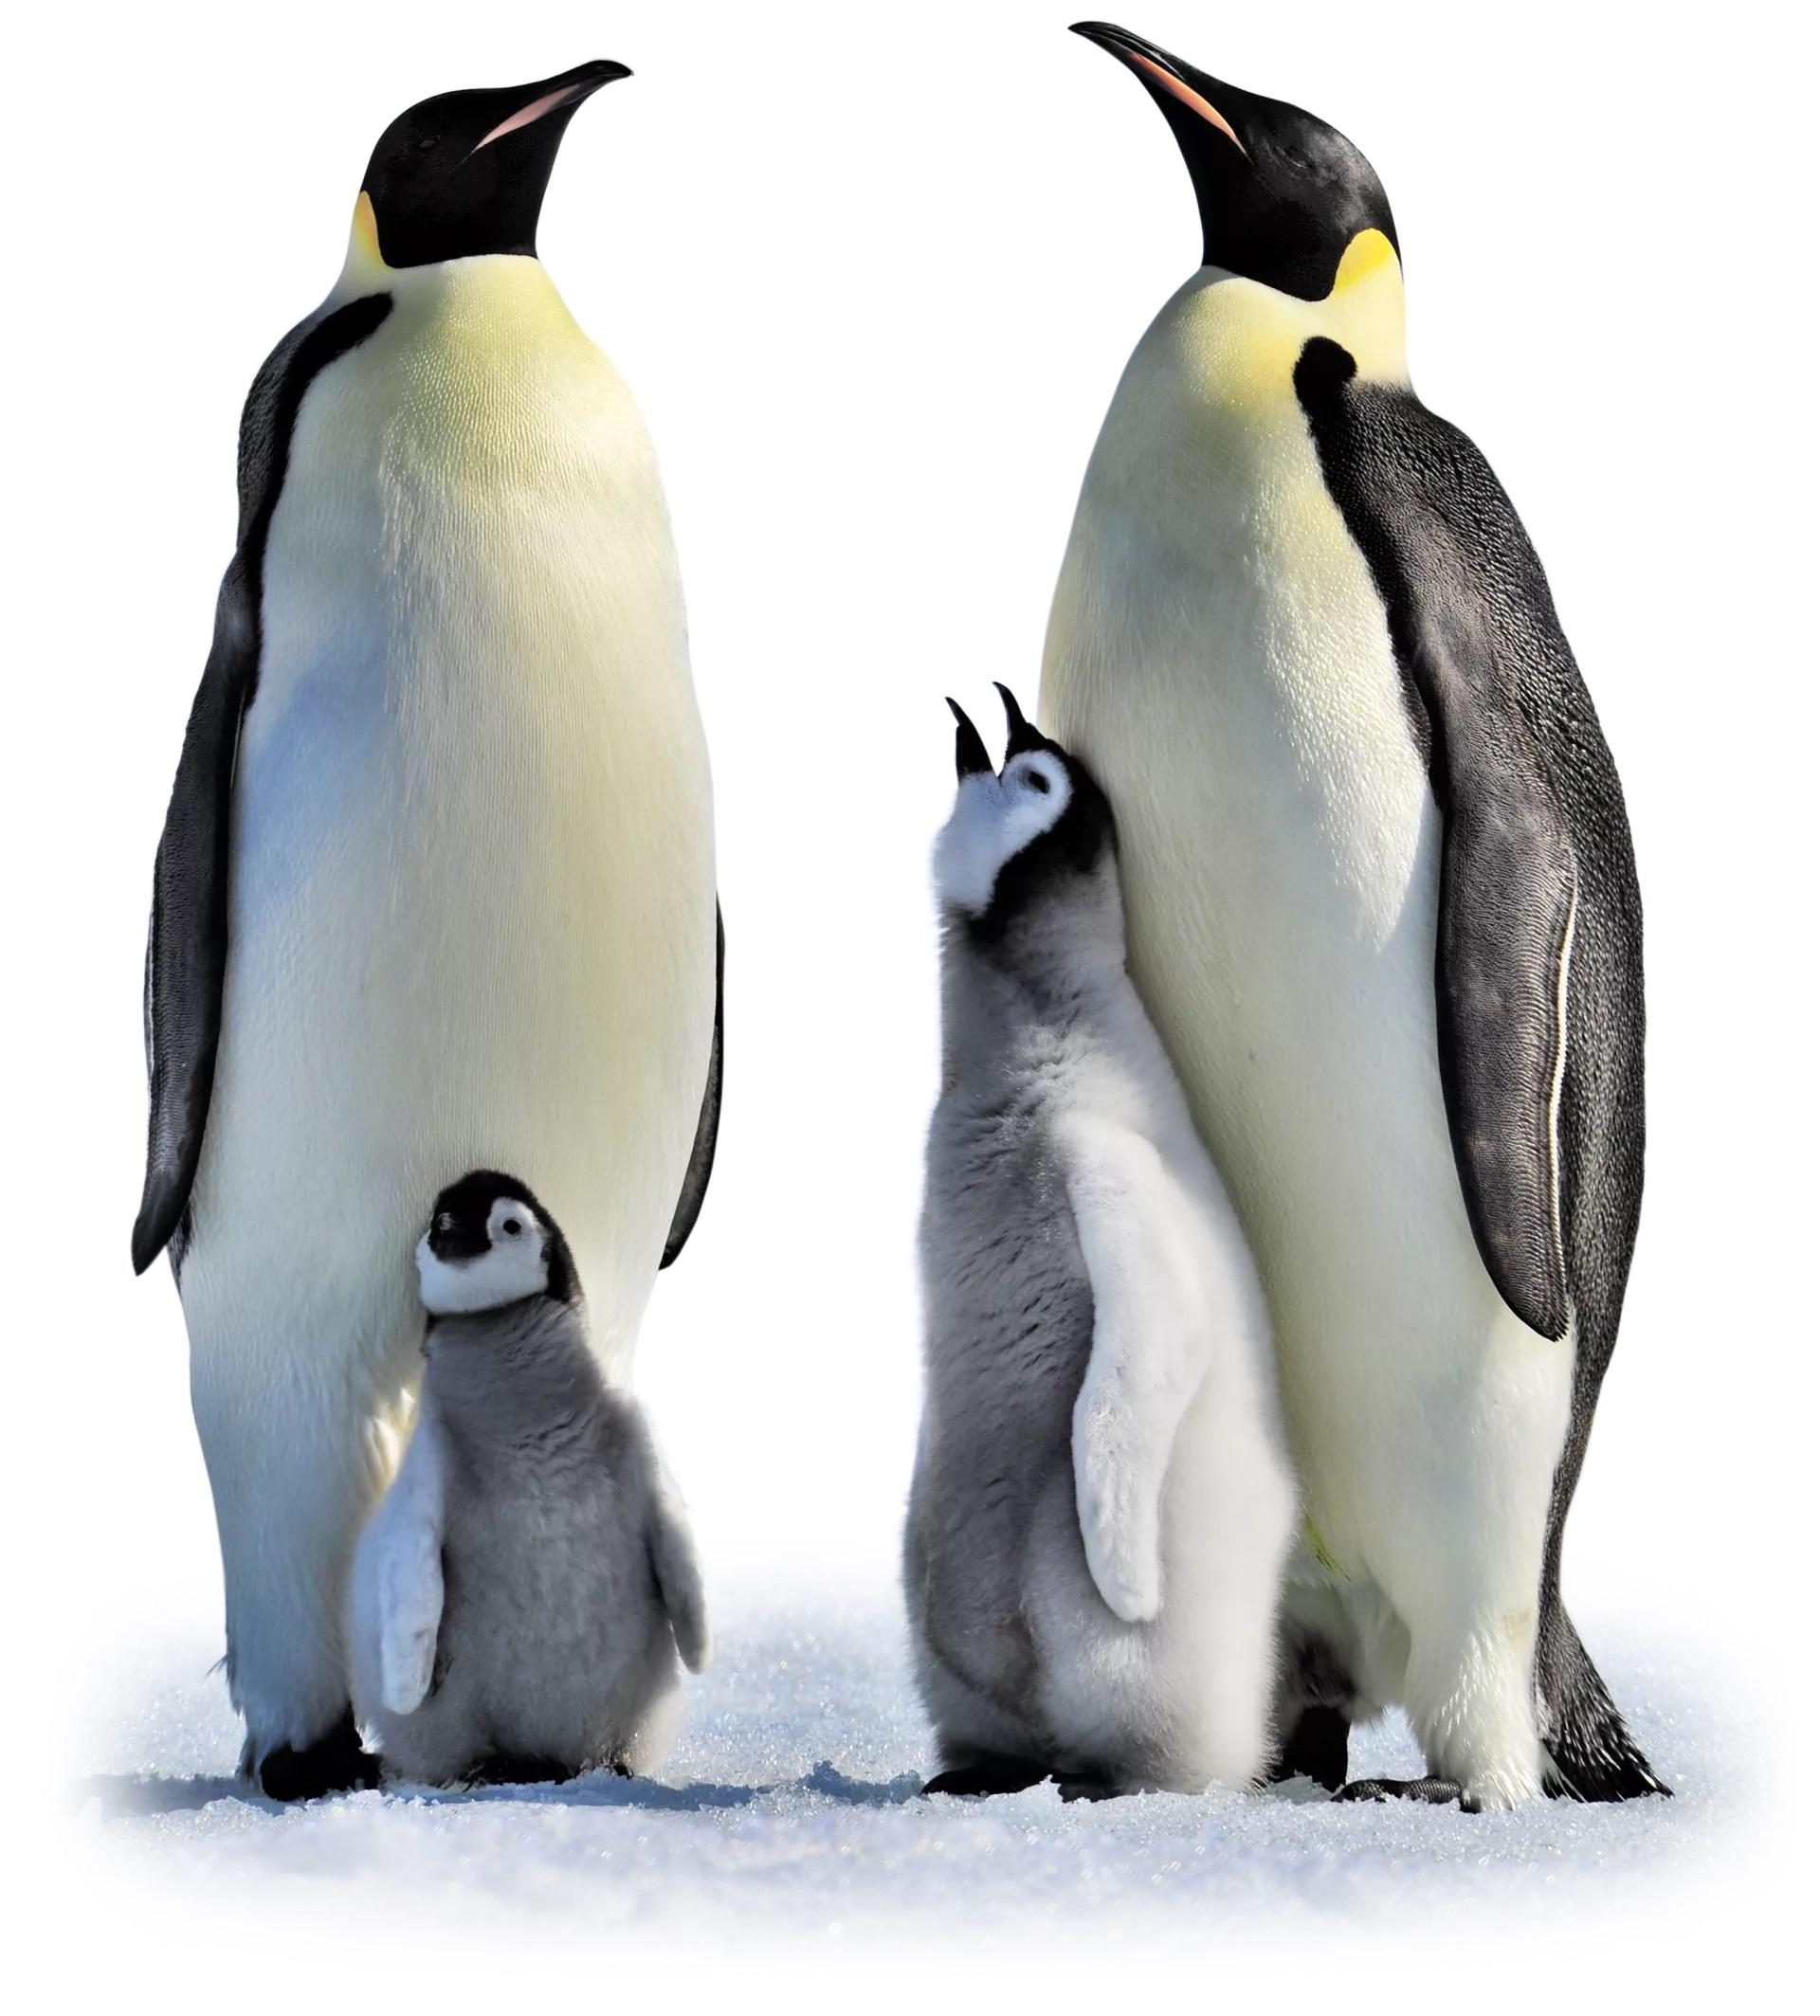emporer: (813, 0, 1722, 2016), (119, 28, 841, 1886)
